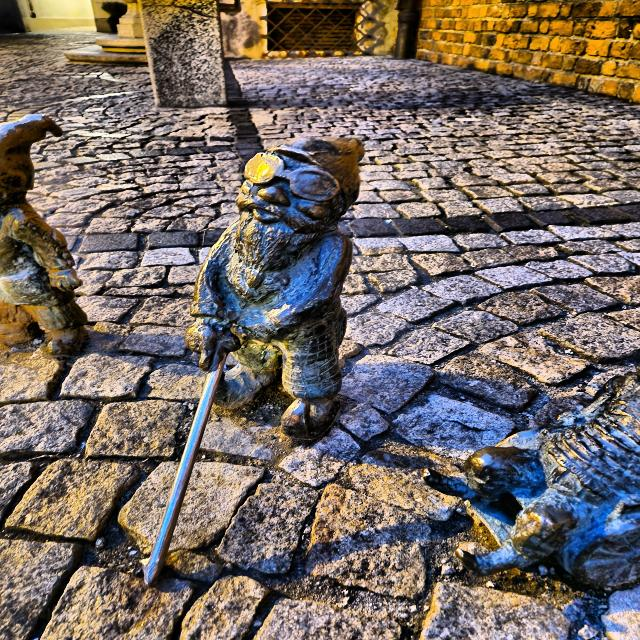Slepak: (141, 138, 365, 588)
